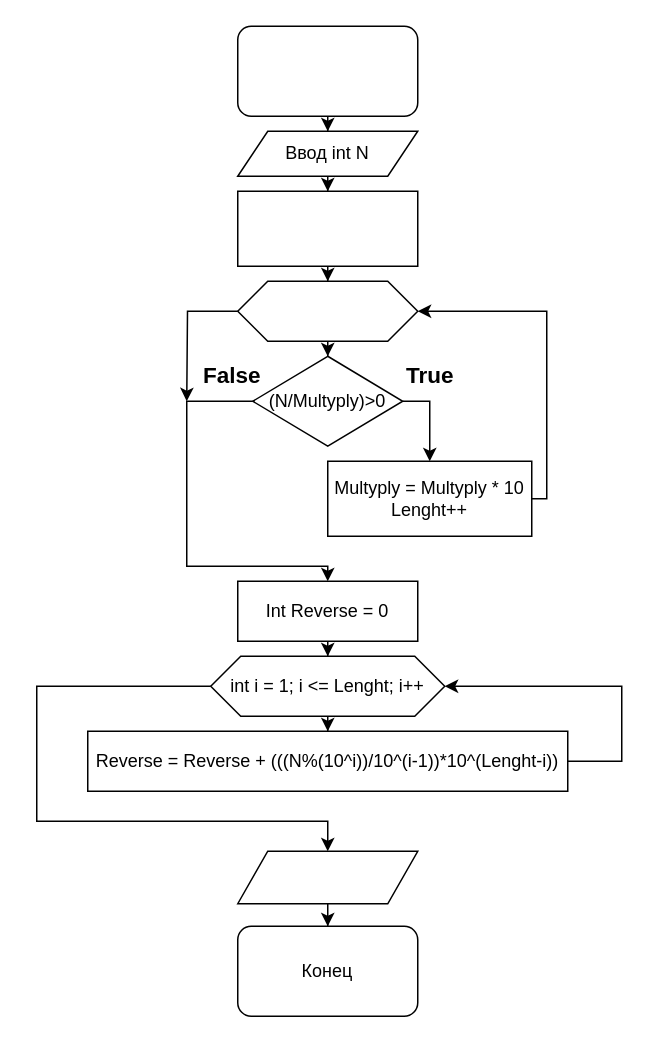
Some shapes in this 660 by 1043 pixel diagram are drawn without their labels. The shapes that lost their labels are listed below. From the top down, each one's centre as x and y in pixels, then its label:
the point at 327,70: Начало
the point at 327,228: int Multiply = 10 int Lenght = 1
the point at 327,310: int i = 0;i<N;i++
the point at 327,877: Вывод Reverse
